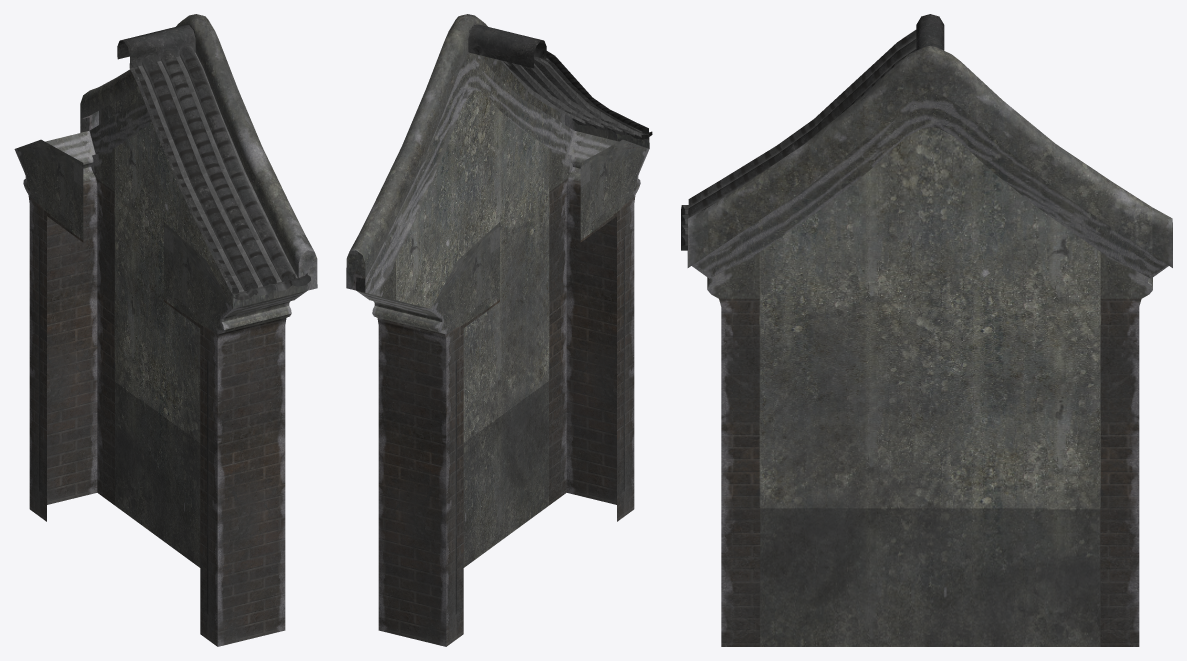
File: hutong_wall_b_end_a.fbx
3 views of the same model, side by side, from view 1: azimuth 30°, elevation 25°; view 2: azimuth 150°, elevation 25°; view 3: azimuth 270°, elevation 25° (orthographic). The views are drawn at different scales.
Visible parts, largest first — view 1: hogtong_wall_end_a; view 2: hogtong_wall_end_a; view 3: hogtong_wall_end_a.
Boxes of the visible parts, x1,y1,x2,y2 form: hogtong_wall_end_a: [14, 14, 317, 646]; hogtong_wall_end_a: [346, 14, 652, 646]; hogtong_wall_end_a: [681, 14, 1172, 646].
Bounding box in the file's own units: 67.52 × 415 × 306.
Materials: 1 (1 with a texture image).
